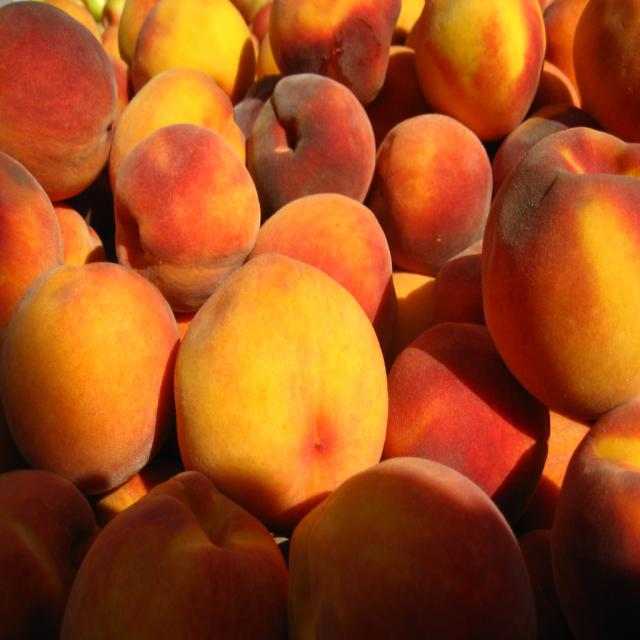Peach: (0, 0, 639, 639), (115, 119, 252, 286)
